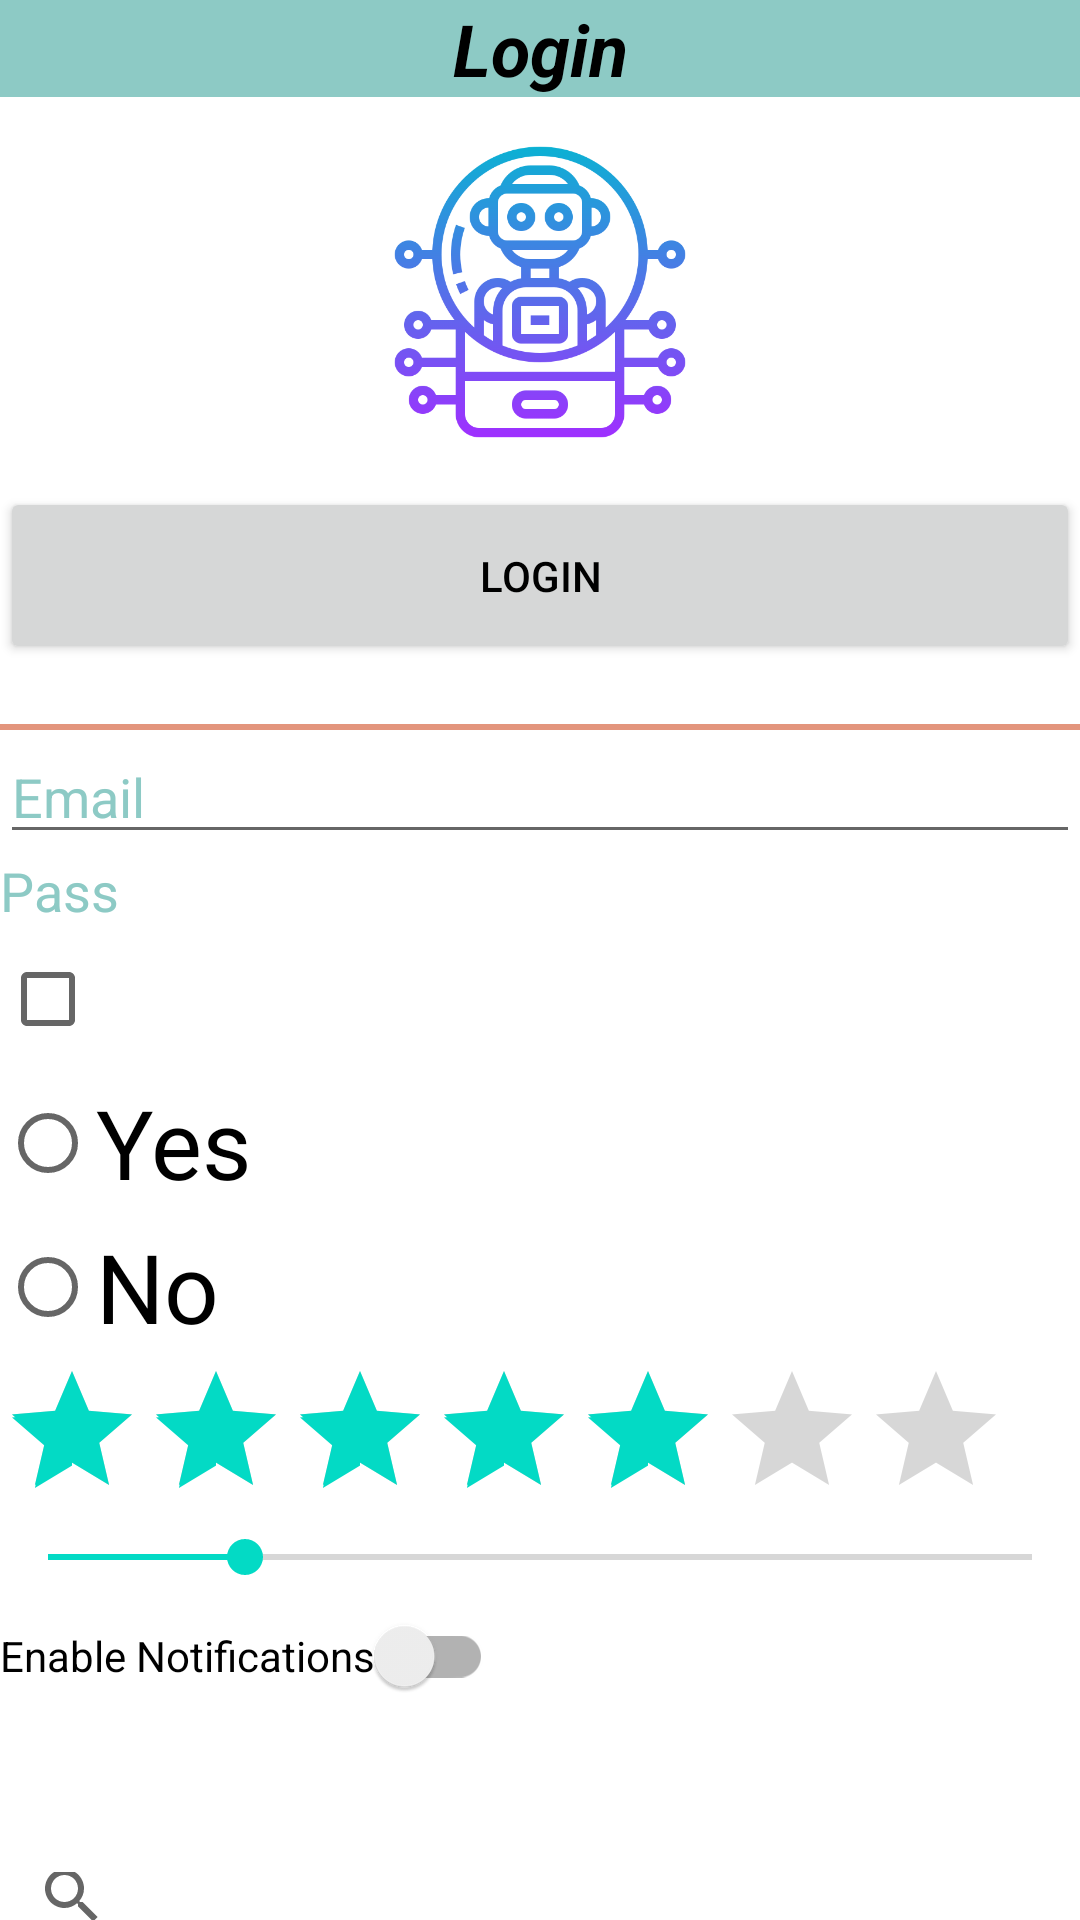

Named icons in this screenshot (1080px x 1920px) and their bounding boxes, {"x1": x1, "y1": y1, "x2": x2, "y2": y2}:
android: {"x1": 394, "y1": 146, "x2": 686, "y2": 438}
